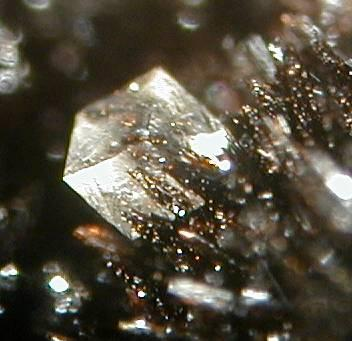calcite: (64, 70, 228, 244)
